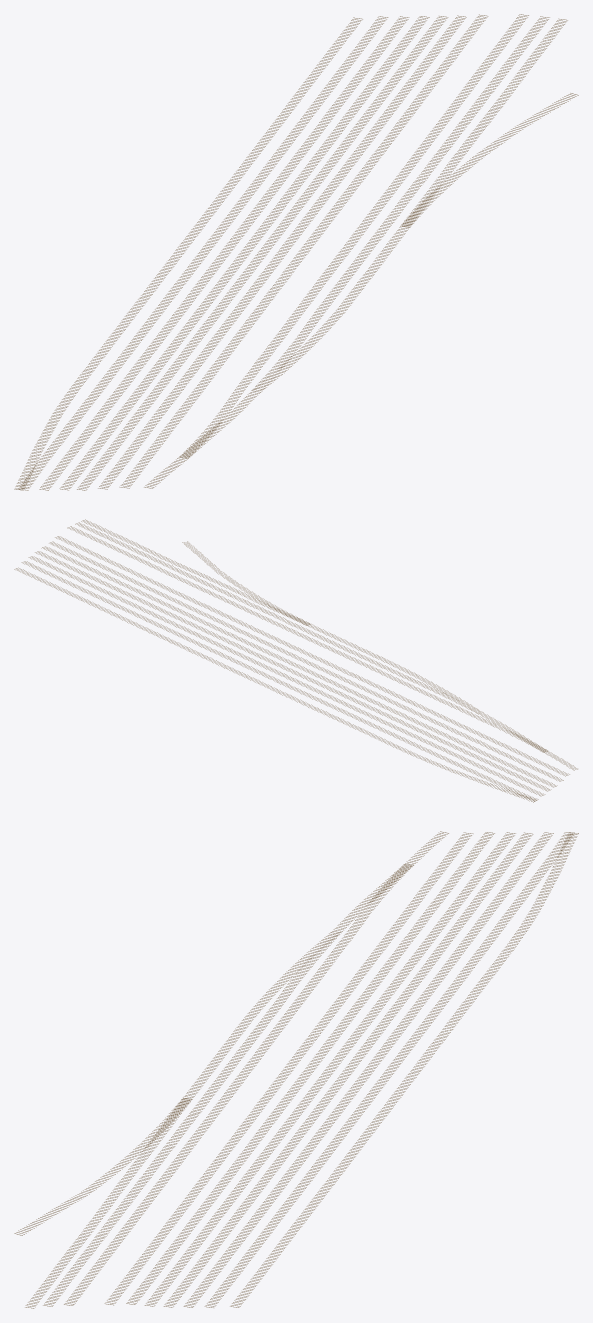
The model's file is c_1627_17830_rail_sleeper.glb.
The picture shows the model from 3 angles, top to bottom: view 1: azimuth 90°, elevation 25°; view 2: azimuth 150°, elevation 25°; view 3: azimuth 270°, elevation 25°; orthographic projection. The views are drawn at different scales.
Visible parts, largest first — view 1: geometry_0; view 2: geometry_0; view 3: geometry_0.
Part boxes in pixels (x1,y1,x2,y2): geometry_0: [14, 14, 578, 490]; geometry_0: [14, 519, 577, 802]; geometry_0: [14, 831, 578, 1308].
Bounding box in the file's own units: 257 × 1.19 × 129.
